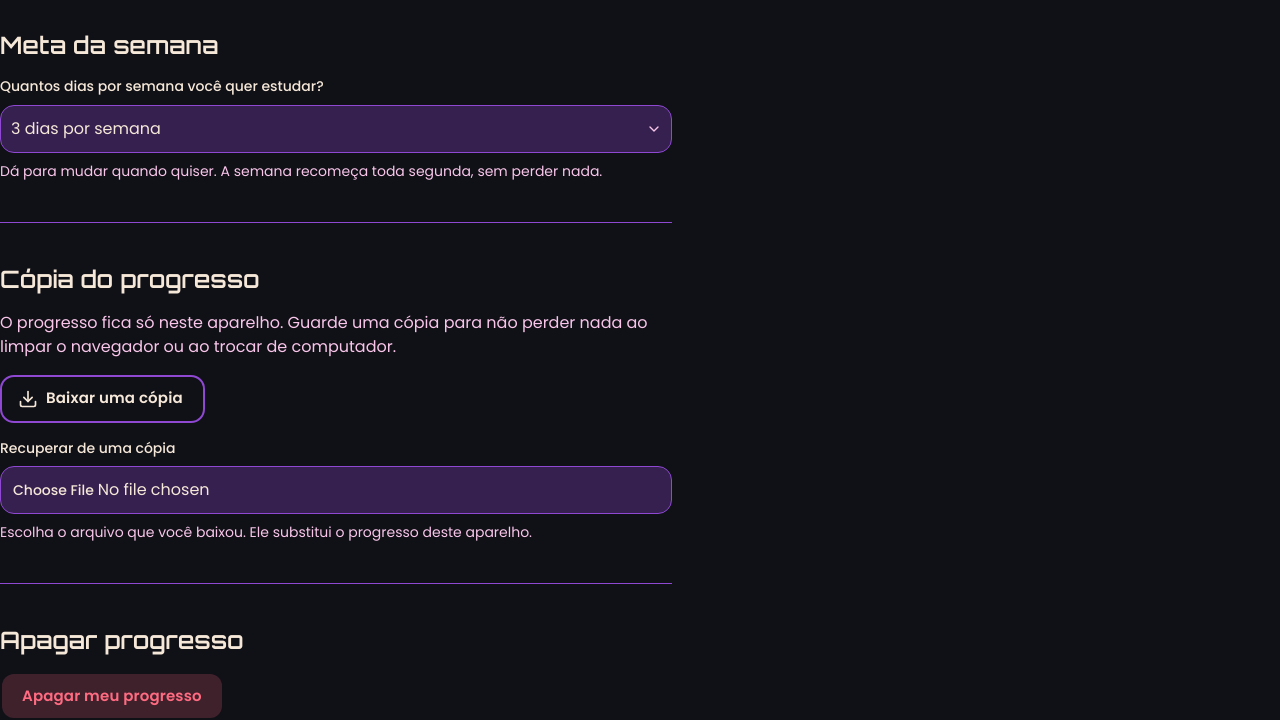
Test: Configuracoes › apagar pede confirmação, começa no Cancelar e apaga tudo ao confirmar
(page scrolled)
Click the button "Apagar meu progresso". click: (112, 696)
box: [0, 672, 224, 719]
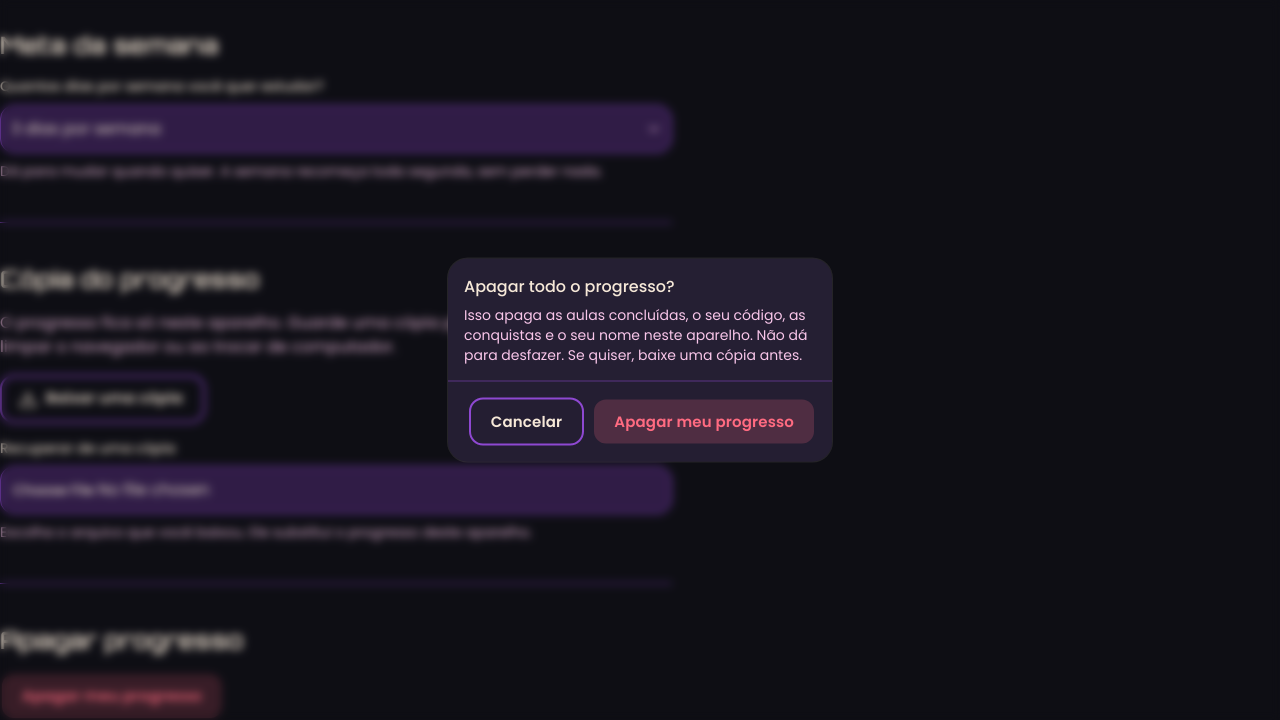
Click the button "Apagar meu progresso". click: (704, 422)
box: [592, 398, 816, 446]
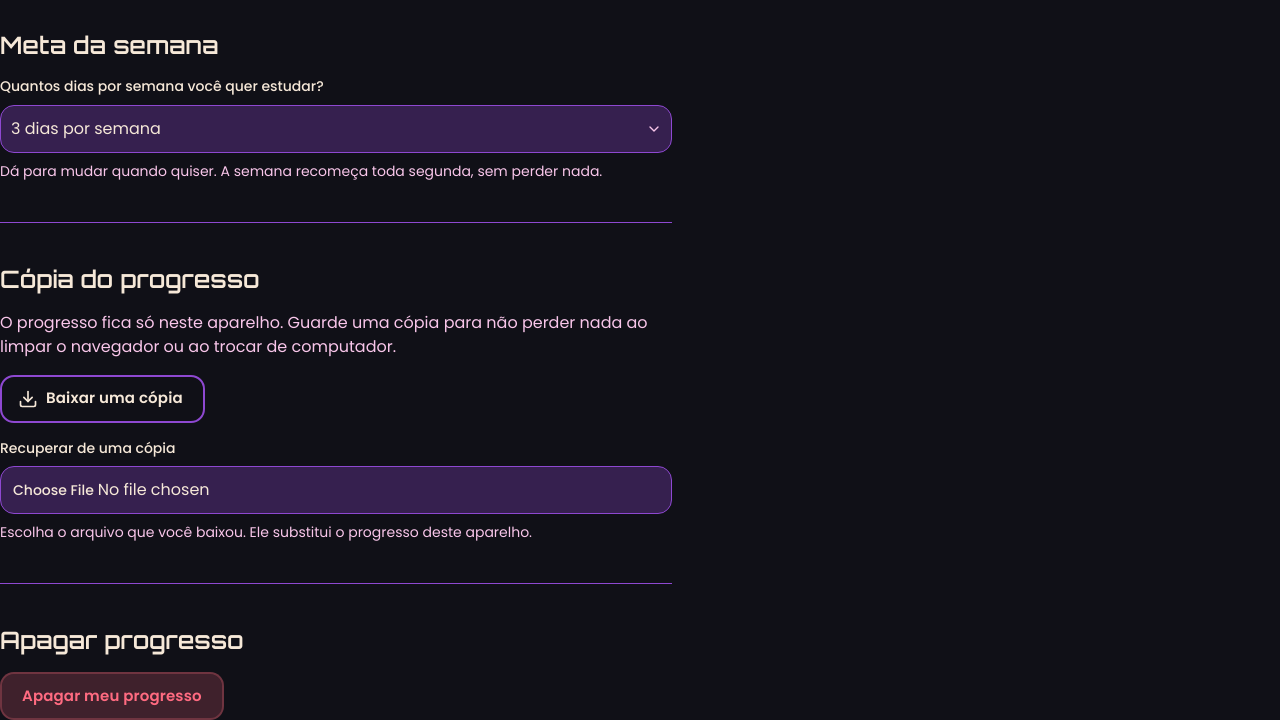
Expected: the heading "Apagar todo o progresso?" is gone
